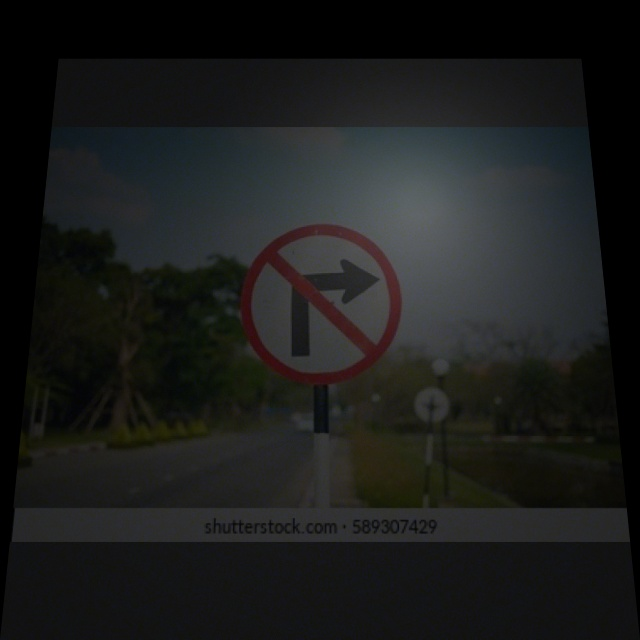Right_Turn_Prohibited: (238, 224, 406, 387)
